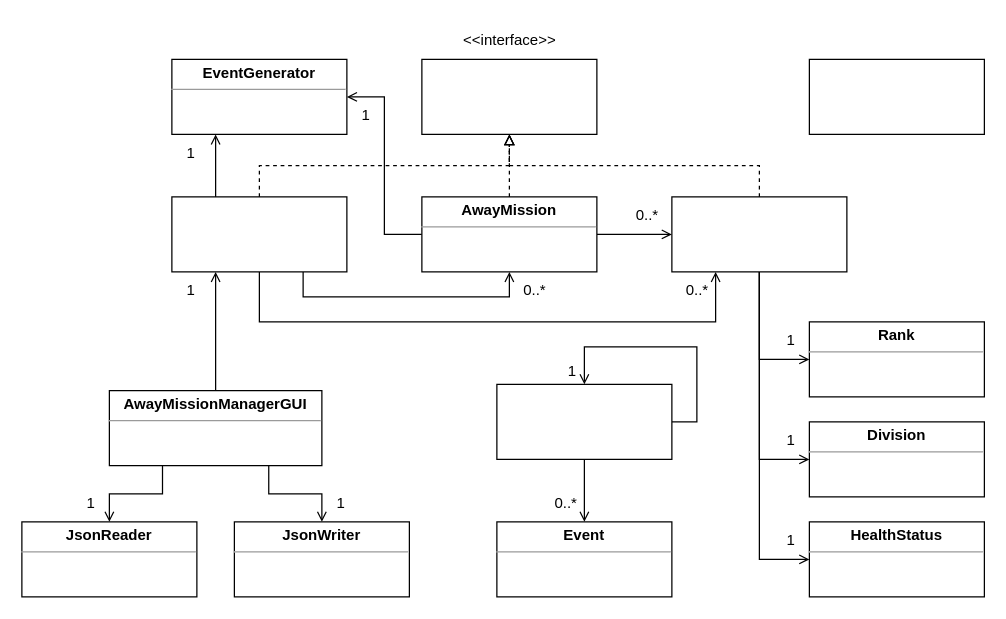
Some shapes in this 1006 by 619 pixel diagram are drawn without their labels. The centre of each missing label's shape, as x and y in pixels:
"CrewMember" goes at point (759, 234).
"EventLog" goes at point (584, 421).
"Main" goes at point (896, 96).
"Starship" goes at point (259, 234).
"Writable" goes at point (509, 96).
